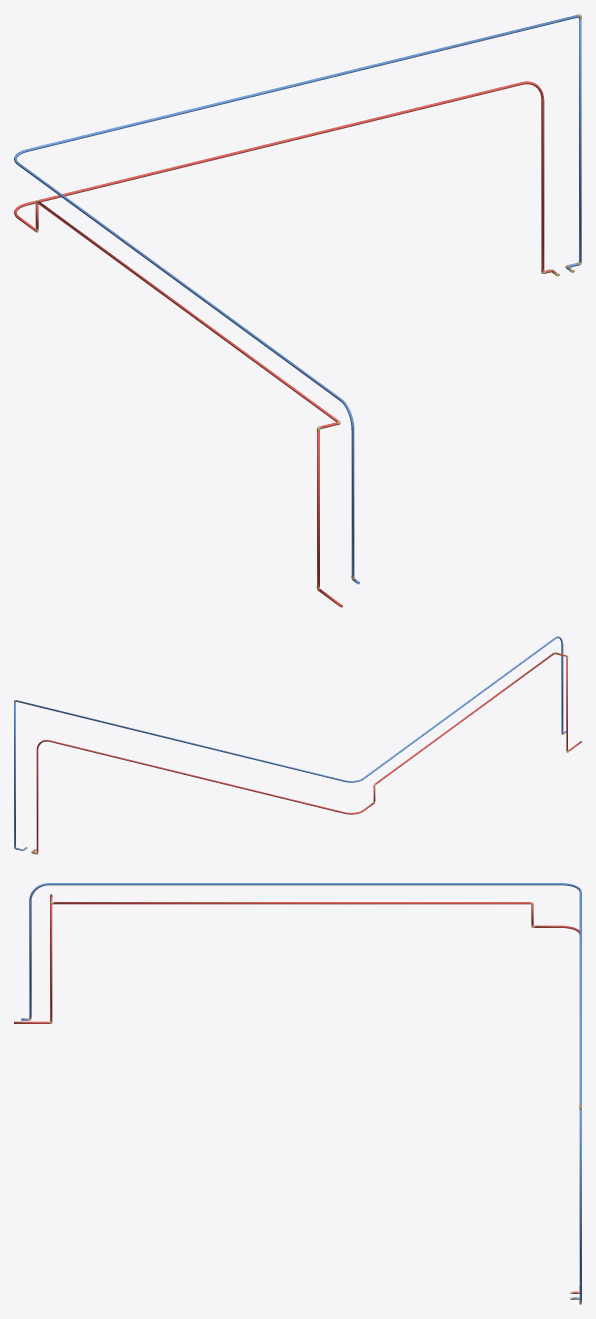
The model's file is slab_pipes_supply__water_heater__d31828ef.glb.
3 renders of one model, top to bottom at view 1: azimuth 30°, elevation 25°; view 2: azimuth 150°, elevation 25°; view 3: azimuth 270°, elevation 25°, orthographic. The views are drawn at different scales.
Visible parts, largest first — view 1: pipe_supply_cold_wh_tankless__pex, pipe_supply_hot_wh_tankless__pex; view 2: pipe_supply_cold_wh_tankless__pex, pipe_supply_hot_wh_tankless__pex; view 3: pipe_supply_cold_wh_tankless__pex, pipe_supply_hot_wh_tankless__pex.
Boxes of the visible parts, x1,y1,x2,y2 form: pipe_supply_cold_wh_tankless__pex: [14, 15, 581, 584]; pipe_supply_hot_wh_tankless__pex: [14, 81, 555, 607]; pipe_supply_cold_wh_tankless__pex: [14, 636, 566, 850]; pipe_supply_hot_wh_tankless__pex: [32, 652, 581, 853]; pipe_supply_cold_wh_tankless__pex: [21, 883, 581, 1303]; pipe_supply_hot_wh_tankless__pex: [14, 894, 579, 1293].
Size of the model in its own units: 5.25 by 2.11 by 5.43.
